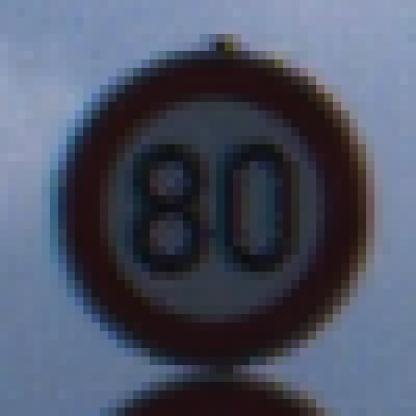Speed Limit 80: (67, 57, 365, 366)
